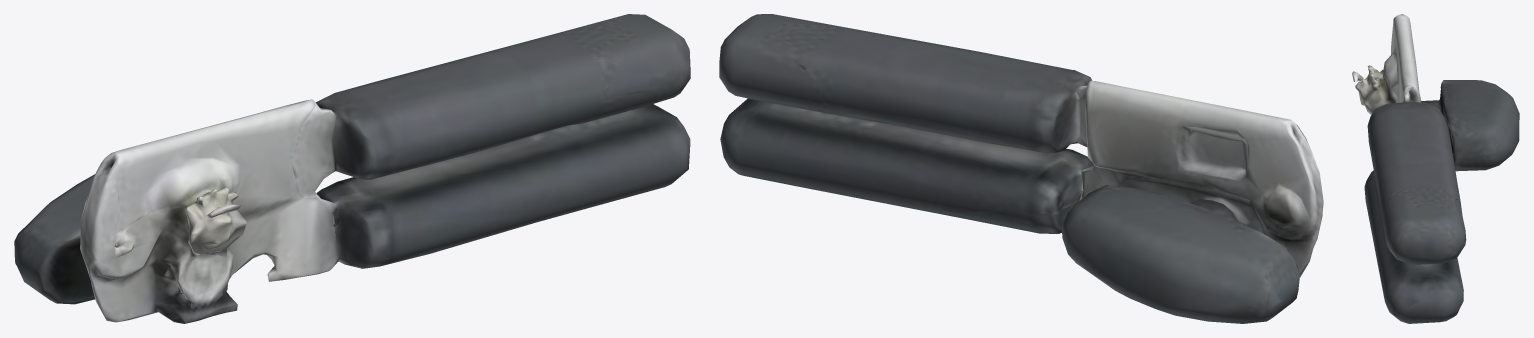
The model's file is gso_granimals_20_wooden_abc_blocks_wagon_g2tinmugghi.glb.
3 renders of one model, left to right at view 1: azimuth 30°, elevation 25°; view 2: azimuth 150°, elevation 25°; view 3: azimuth 270°, elevation 25°, orthographic. The views are drawn at different scales.
Visible parts, largest first — view 1: z-up-to-y-up; view 2: z-up-to-y-up; view 3: z-up-to-y-up.
Part boxes in pixels (left/top/right/bottom): z-up-to-y-up: left=14, top=14, right=690, bottom=323; z-up-to-y-up: left=719, top=14, right=1323, bottom=323; z-up-to-y-up: left=1352, top=14, right=1519, bottom=323.
Bounding box in the file's own units: 0.1918 × 0.0503 × 0.0634.
Materials: 1 (1 with a texture image).
